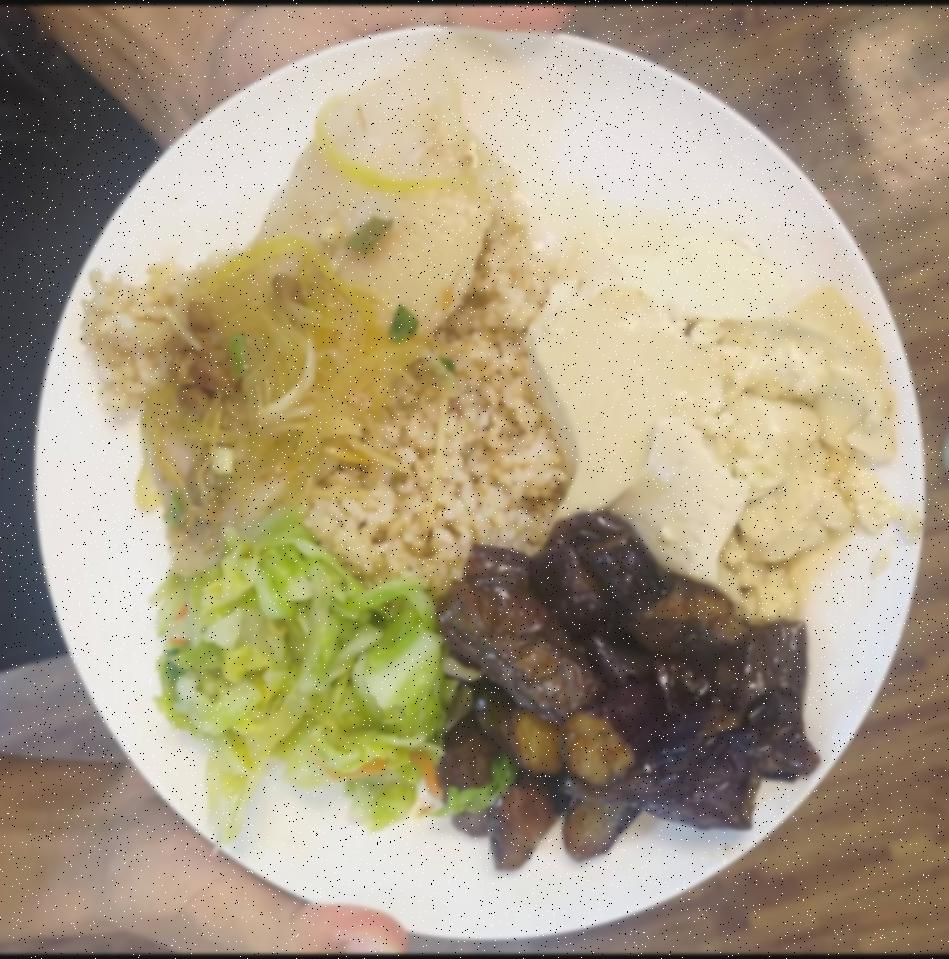brown rice: (276, 204, 556, 596)
plate: (16, 21, 932, 934)
side dish: (530, 213, 892, 560), (437, 538, 812, 856), (152, 538, 444, 824)
steamed fish fillet: (140, 54, 504, 526)
